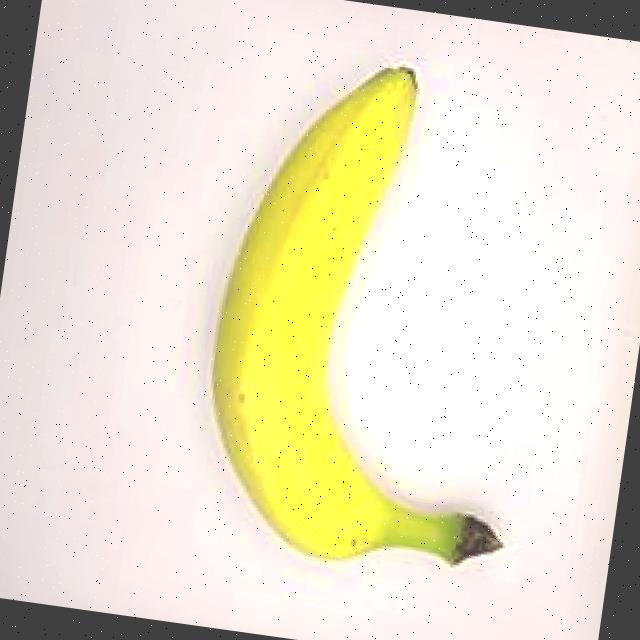Ripe: (152, 21, 632, 623)
